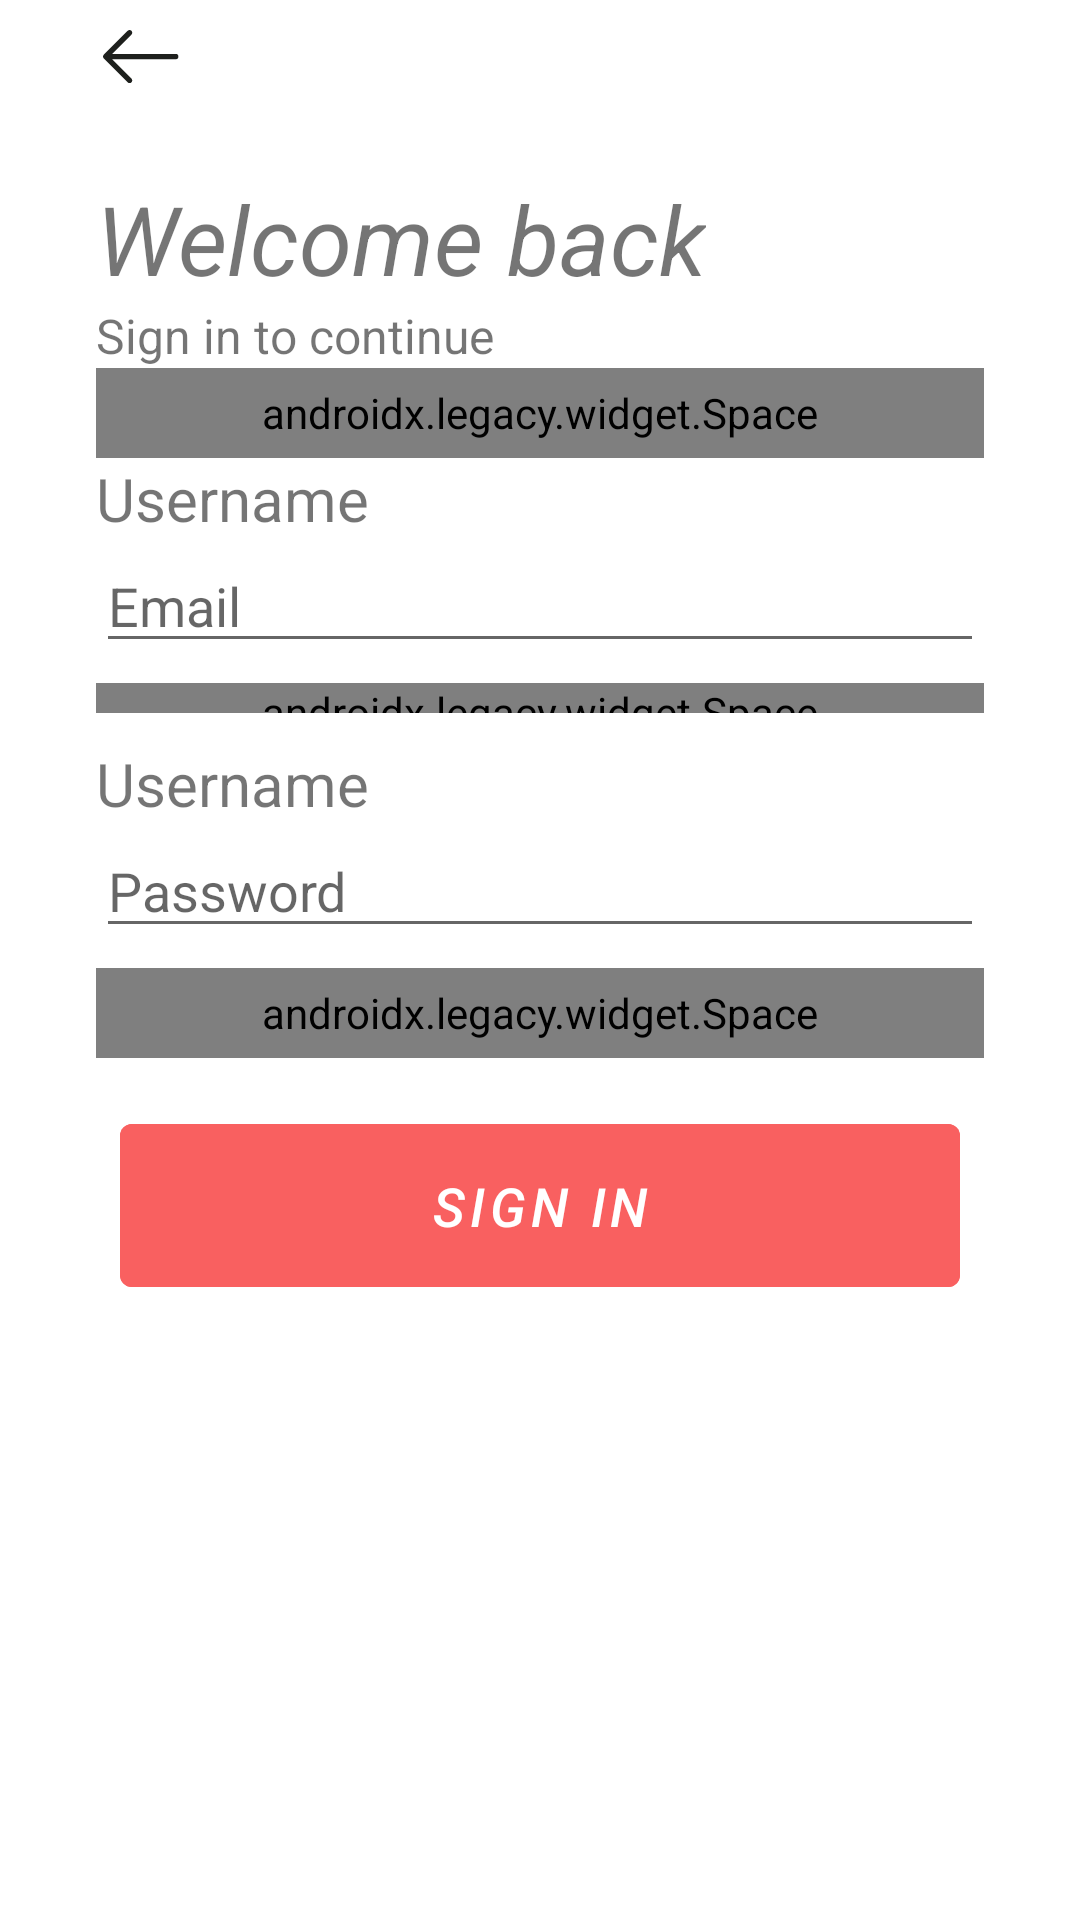

Point at icon controls on the screen. Image size 1080*1920, points as [x,y].
Go Back: [141,56]
